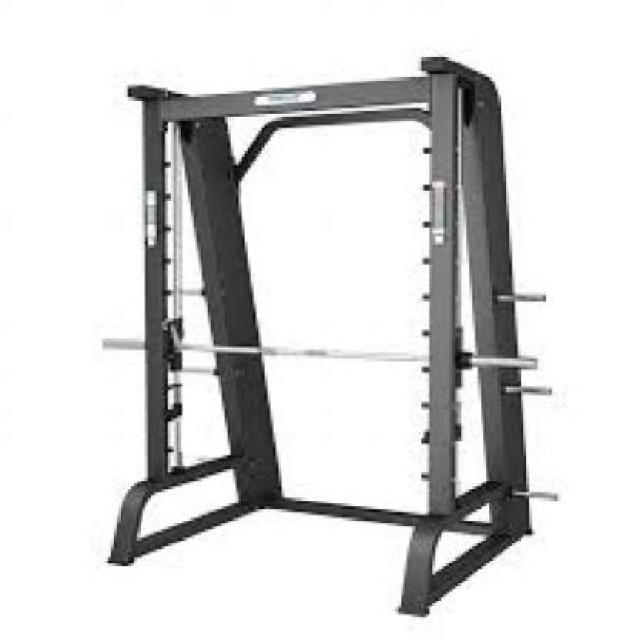smith machine: (102, 54, 563, 620)
